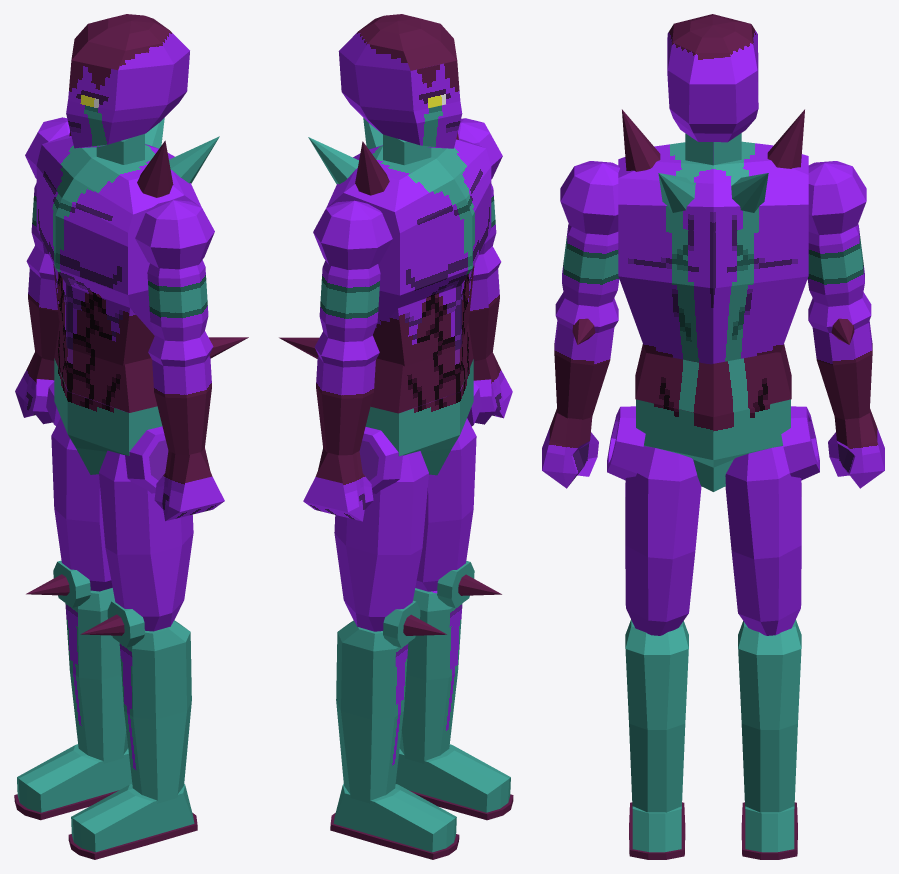
Rendered from HermitJJL.glb.
3 views of the same model, side by side, from view 1: azimuth 30°, elevation 25°; view 2: azimuth 150°, elevation 25°; view 3: azimuth 270°, elevation 25° (orthographic). The views are drawn at different scales.
Parts seen in each view (by area): view 1: Torso, Cabeça, Perna Cima E, Perna Baixo E, Pélvis, Perna Baixo D, Braço Cima E, Perna Cima D, Braço Baixo E, Pé E, Pé D, Mão E (+3 smaller); view 2: Torso, Cabeça, Perna Cima D, Perna Baixo D, Pélvis, Perna Baixo E, Braço Cima D, Perna Cima E, Braço Baixo D, Pé D, Pé E, Mão D (+3 smaller); view 3: Torso, Pélvis, Perna Cima D, Perna Cima E, Perna Baixo E, Perna Baixo D, Cabeça, Braço Cima E, Braço Cima D, Braço Baixo E, Braço Baixo D, Mão E (+3 smaller).
Boxes of the visible parts, x1,y1,x2,y2 form: Torso: [36, 118, 219, 365]; Cabeça: [66, 14, 189, 148]; Perna Cima E: [99, 426, 193, 631]; Perna Baixo E: [80, 600, 191, 803]; Pélvis: [54, 322, 162, 474]; Perna Baixo D: [26, 560, 128, 763]; Braço Cima E: [135, 200, 214, 341]; Perna Cima D: [46, 382, 112, 591]; Braço Baixo E: [148, 331, 248, 454]; Pé E: [68, 784, 197, 859]; Pé D: [14, 744, 132, 820]; Mão E: [154, 448, 224, 521]; Torso: [308, 118, 491, 366]; Cabeça: [338, 14, 462, 148]; Perna Cima D: [334, 427, 428, 631]; Perna Baixo D: [336, 600, 446, 803]; Pélvis: [365, 322, 473, 475]; Perna Baixo E: [399, 561, 501, 763]; Braço Cima D: [313, 200, 392, 341]; Perna Cima E: [415, 382, 481, 591]; Braço Baixo D: [279, 331, 379, 455]; Pé D: [330, 784, 459, 859]; Pé E: [395, 744, 513, 820]; Mão D: [303, 448, 373, 521]; Torso: [618, 109, 808, 364]; Pélvis: [635, 344, 791, 491]; Perna Cima D: [725, 406, 819, 635]; Perna Cima E: [607, 406, 701, 635]; Perna Baixo E: [625, 619, 688, 812]; Perna Baixo D: [738, 619, 801, 812]; Cabeça: [667, 14, 758, 142]; Braço Cima E: [560, 161, 619, 306]; Braço Cima D: [807, 161, 866, 306]; Braço Baixo E: [554, 292, 618, 419]; Braço Baixo D: [808, 292, 872, 419]; Mão E: [542, 409, 598, 488].
Bounding box in the file's own units: 1.92 × 9.94 × 3.75.
5 materials, 5 textured.
